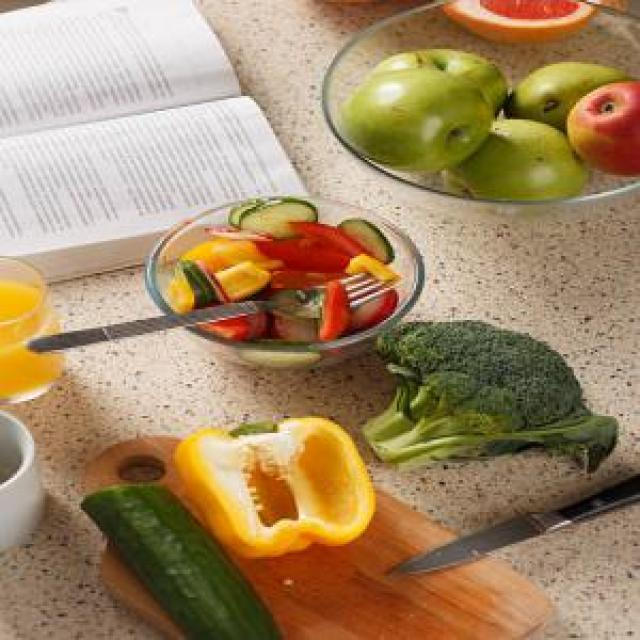knife: (386, 467, 639, 589)
